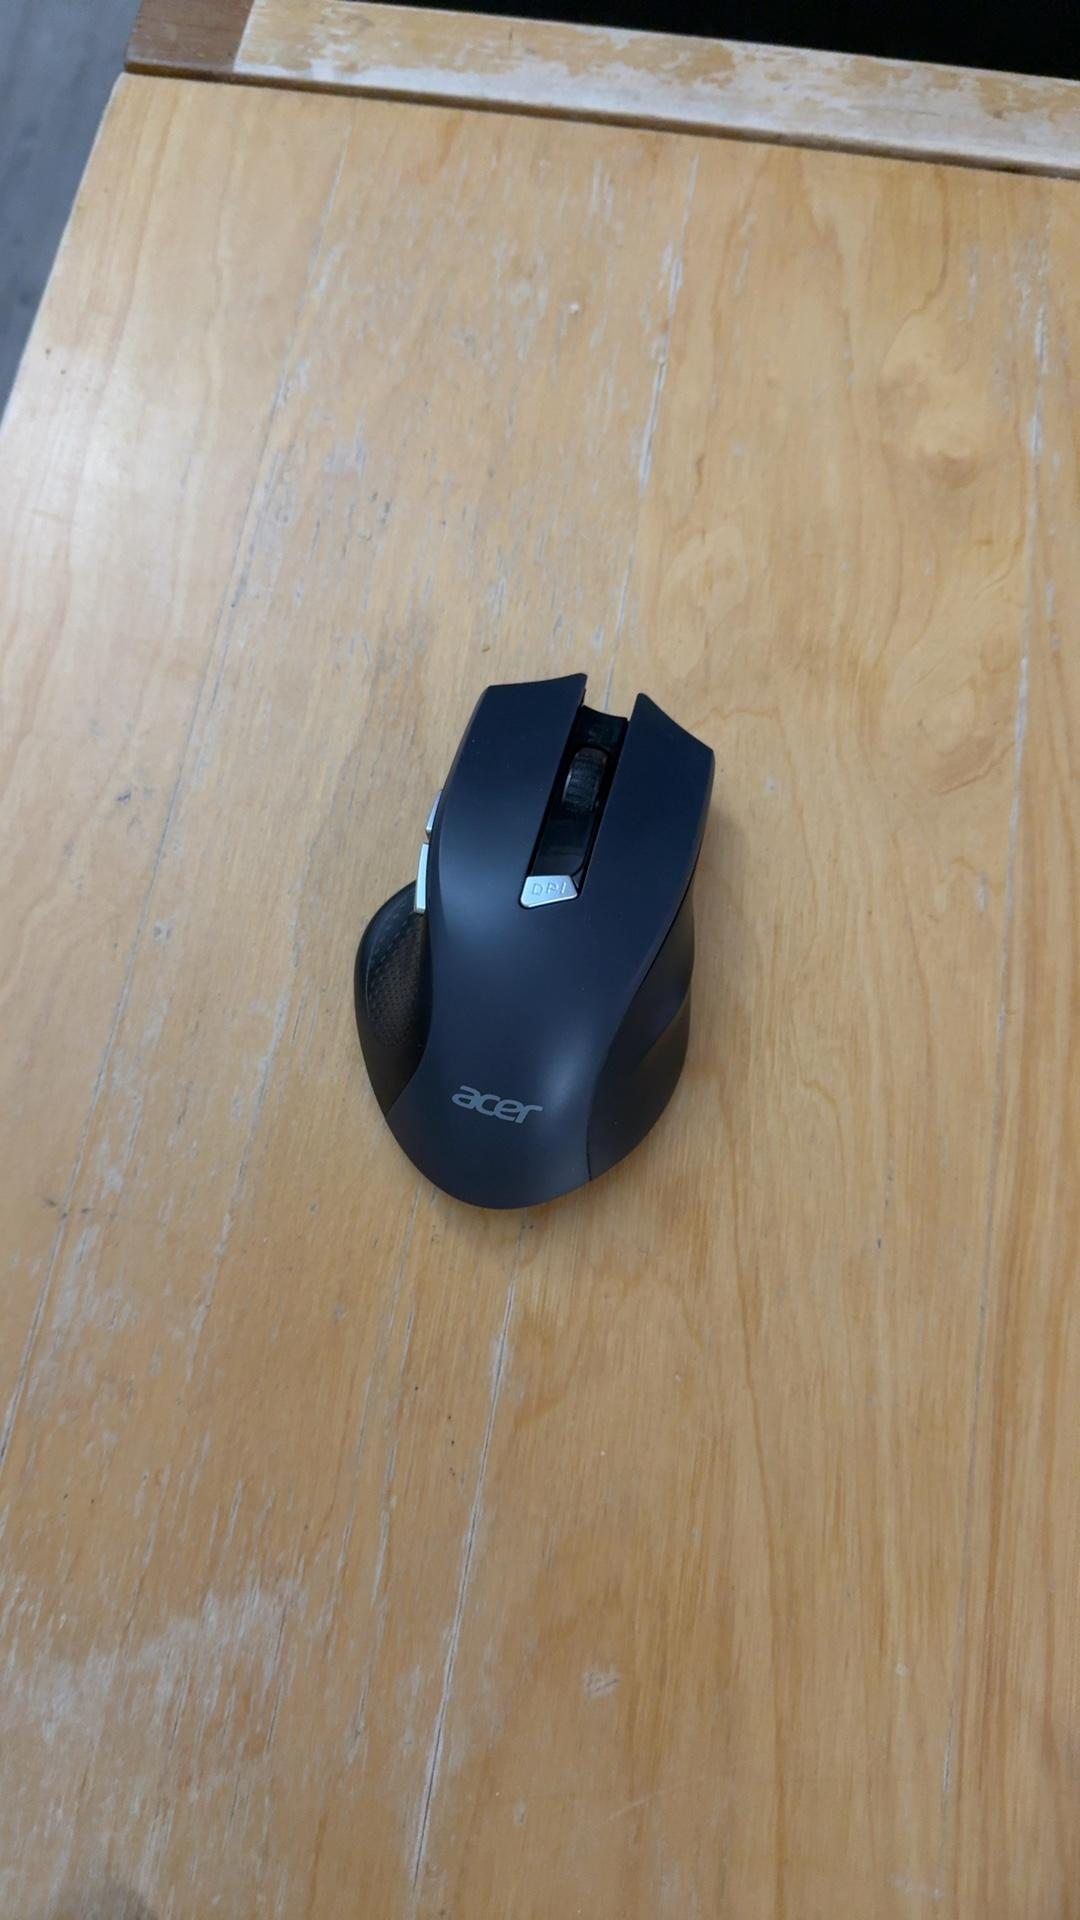Aulaf75: (345, 667, 773, 1222)
